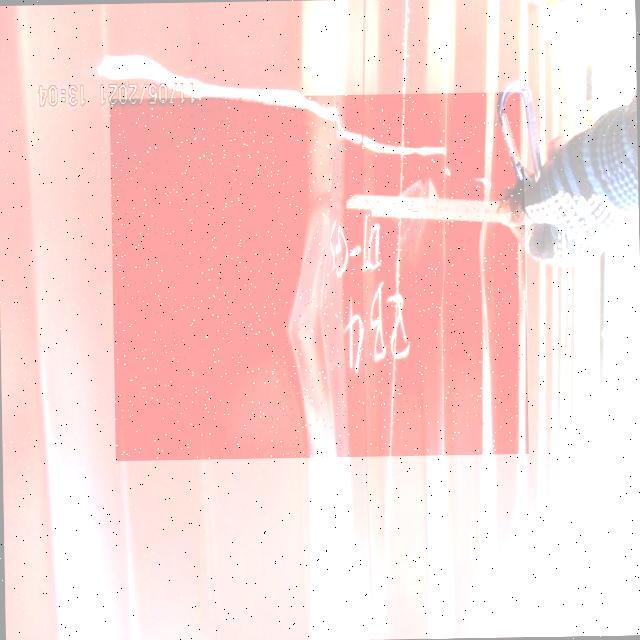Dent: (109, 92, 528, 461)
